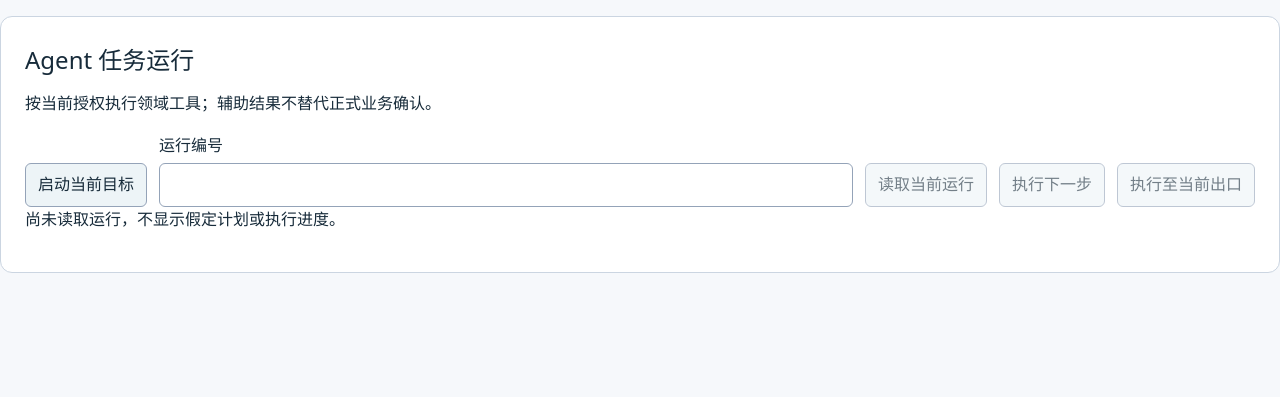
Test case: shared real-run projection › definitive denial 401 clears earlier uncertain creation state
This screenshot has width=1280, height=397.
Click the button "启动当前目标" at (86, 185), box left=25, top=163, right=147, bottom=207
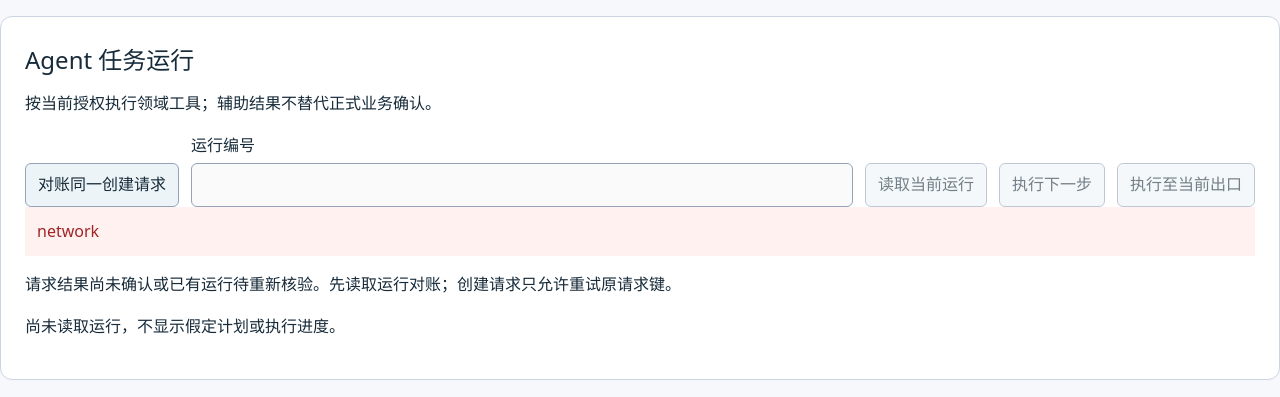
Expected: the text "network" is shown, left=25, top=207, right=1255, bottom=256
Expected: the text "请求结果尚未确认或已有运行待重新核验。先读取运行对账；创建请求只允许重试原请求键。" is shown, left=25, top=273, right=681, bottom=295
Click the button "对账同一创建请求" at (102, 185), box left=25, top=163, right=179, bottom=207
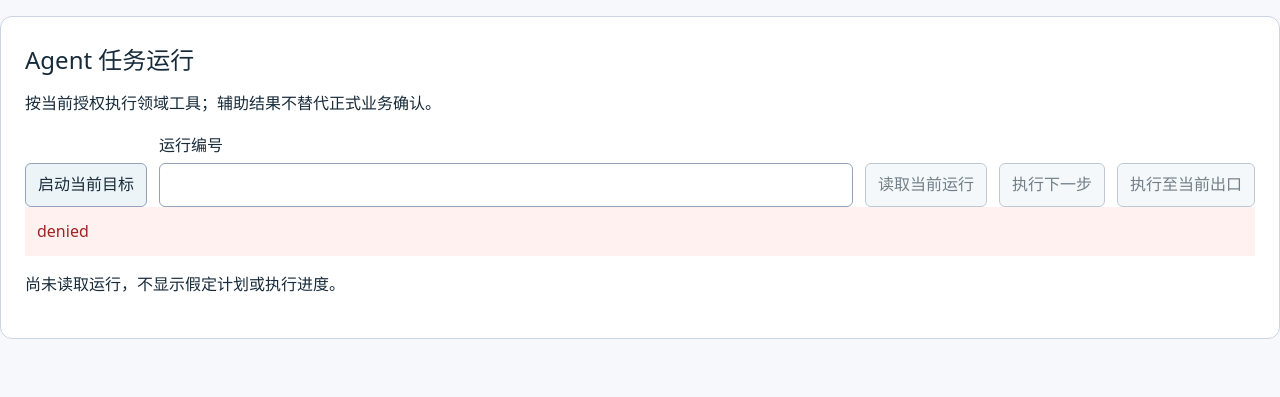
Expected: the text "denied" is shown, left=25, top=207, right=1255, bottom=256
Expected: the text "请求结果尚未确认" is gone
Expected: the button "对账同一创建请求" is gone
